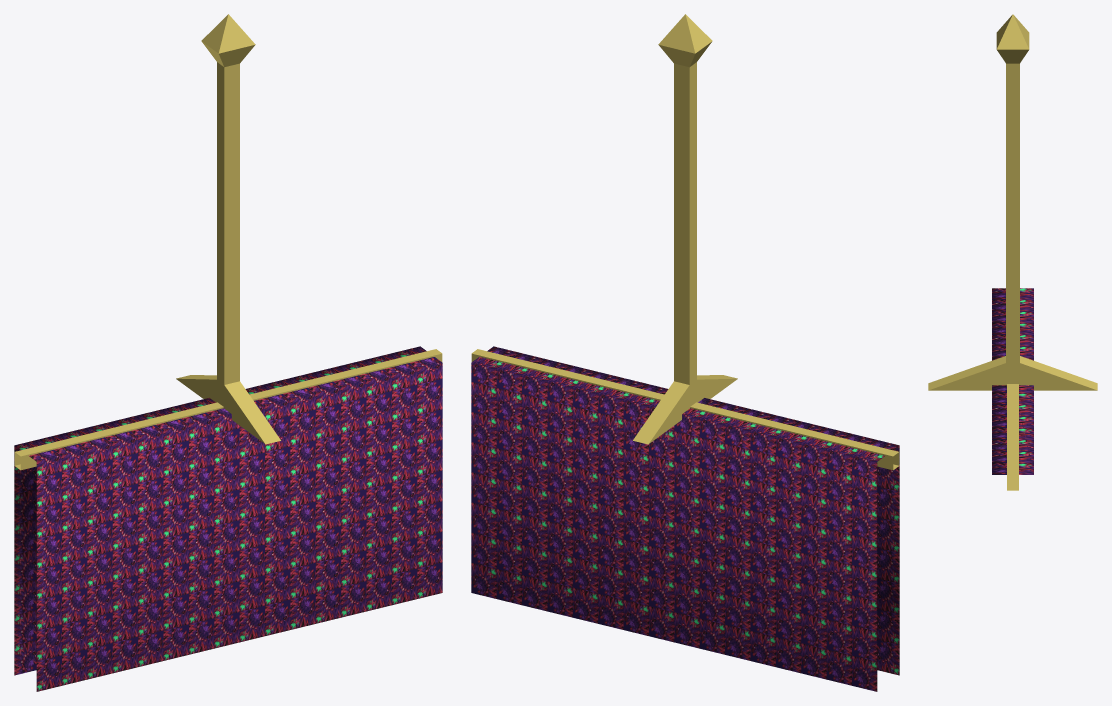
Rendered from 4657floor_r.gltf.
3 views of the same model, side by side, from view 1: azimuth 30°, elevation 25°; view 2: azimuth 150°, elevation 25°; view 3: azimuth 270°, elevation 25° (orthographic). The views are drawn at different scales.
Visible parts, largest first — view 1: 4657floor_r; view 2: 4657floor_r; view 3: 4657floor_r.
Part boxes in pixels (left/top/right/bottom): 4657floor_r: left=14, top=14, right=442, bottom=691; 4657floor_r: left=471, top=14, right=899, bottom=691; 4657floor_r: left=928, top=14, right=1097, bottom=490.
Size of the model in its own units: 1.59 by 2.23 by 0.5869.
Materials: 2 (1 with a texture image).
